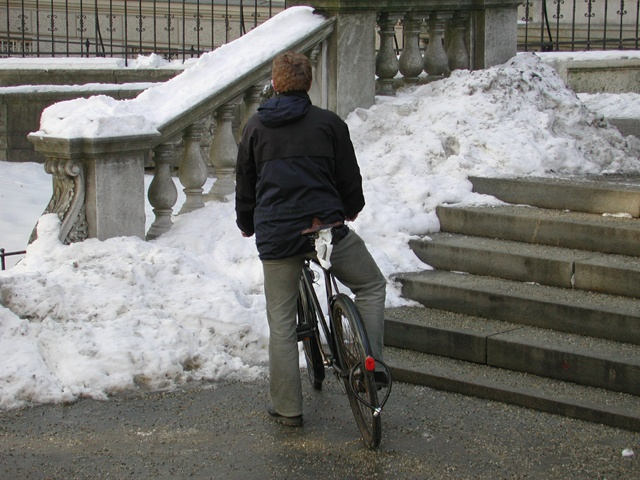person: (230, 55, 389, 431)
